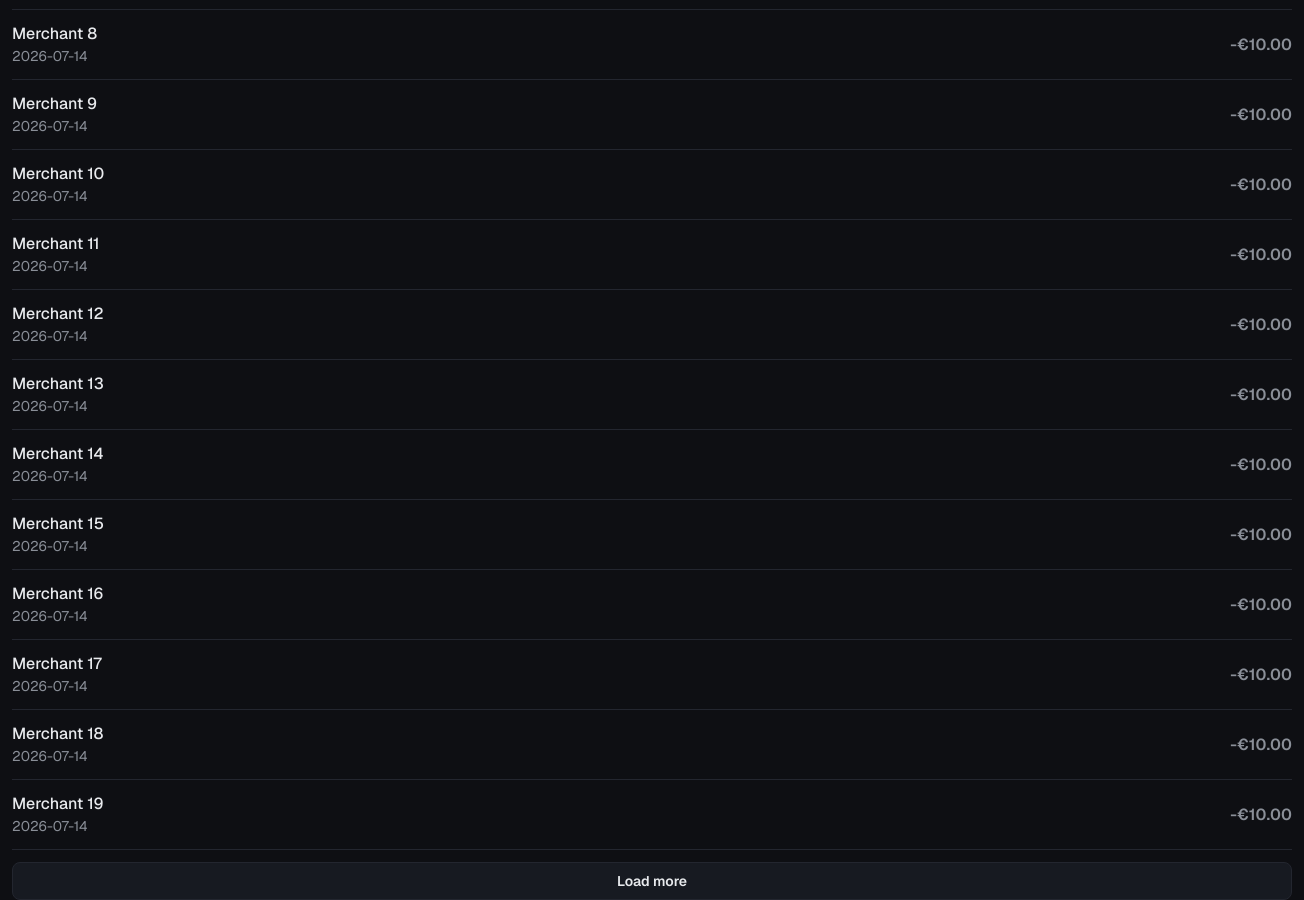
TransactionList › renders at most 20 rows, then reveals more with Load more
(page scrolled)
expect the text "Merchant 19" is shown: met, box [12, 793, 103, 814]
expect the text "Merchant 20" is not shown: met
Click the button "Load more" at (652, 881), box [12, 862, 1292, 899]
(page scrolled)
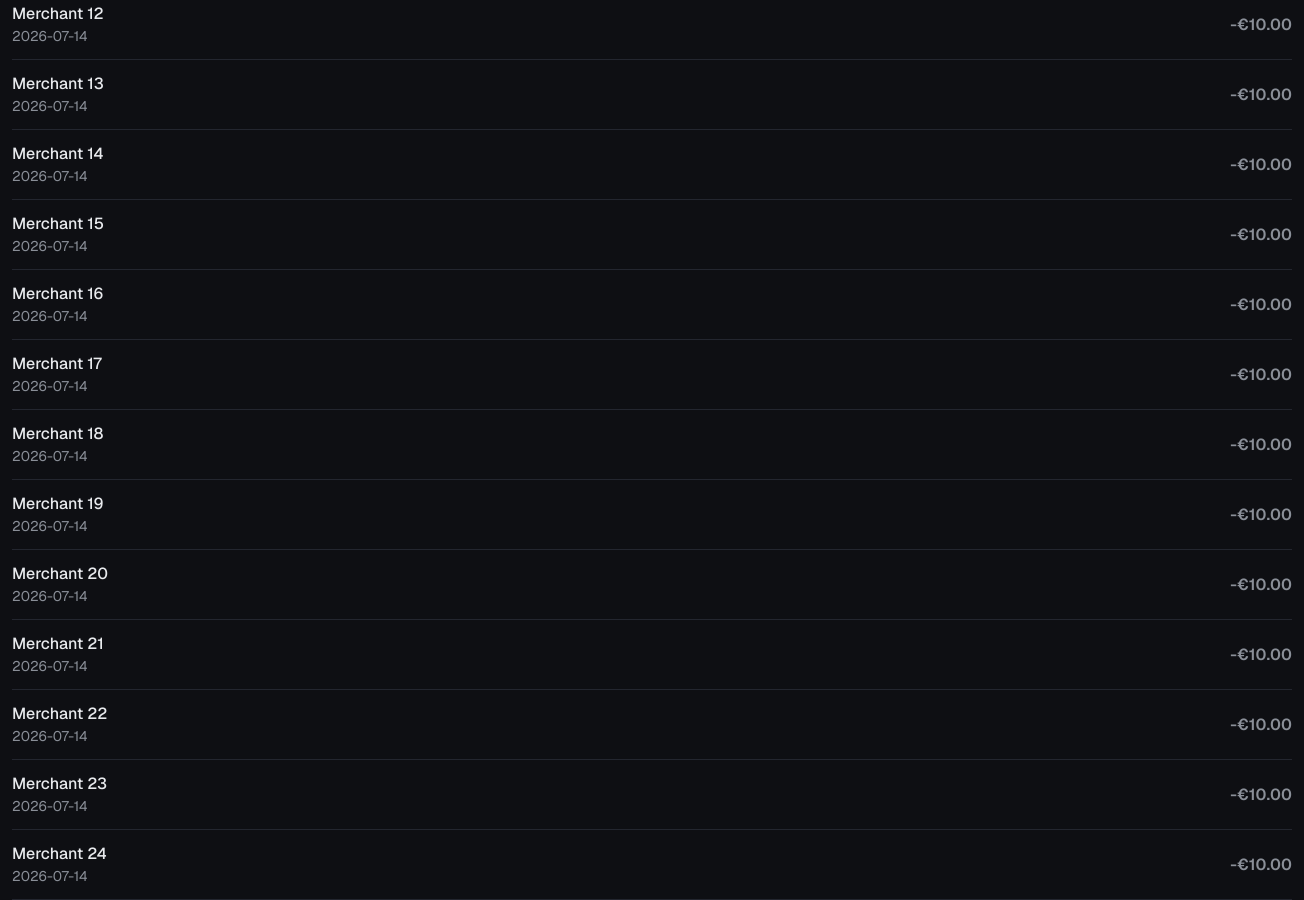
expect the text "Merchant 20" is shown: met, box [12, 563, 108, 584]
expect the text "Merchant 24" is shown: met, box [12, 843, 107, 864]
